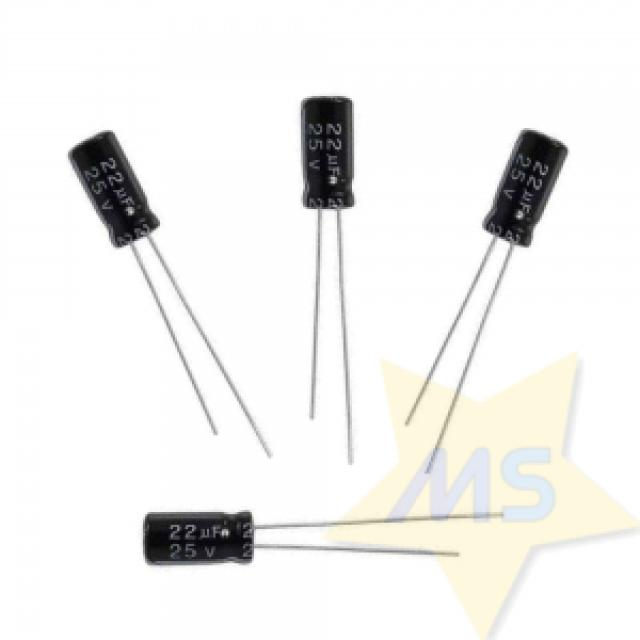Capacitor: (68, 132, 273, 461), (405, 130, 570, 503), (301, 100, 358, 467), (145, 506, 503, 563), (399, 258, 486, 431)
